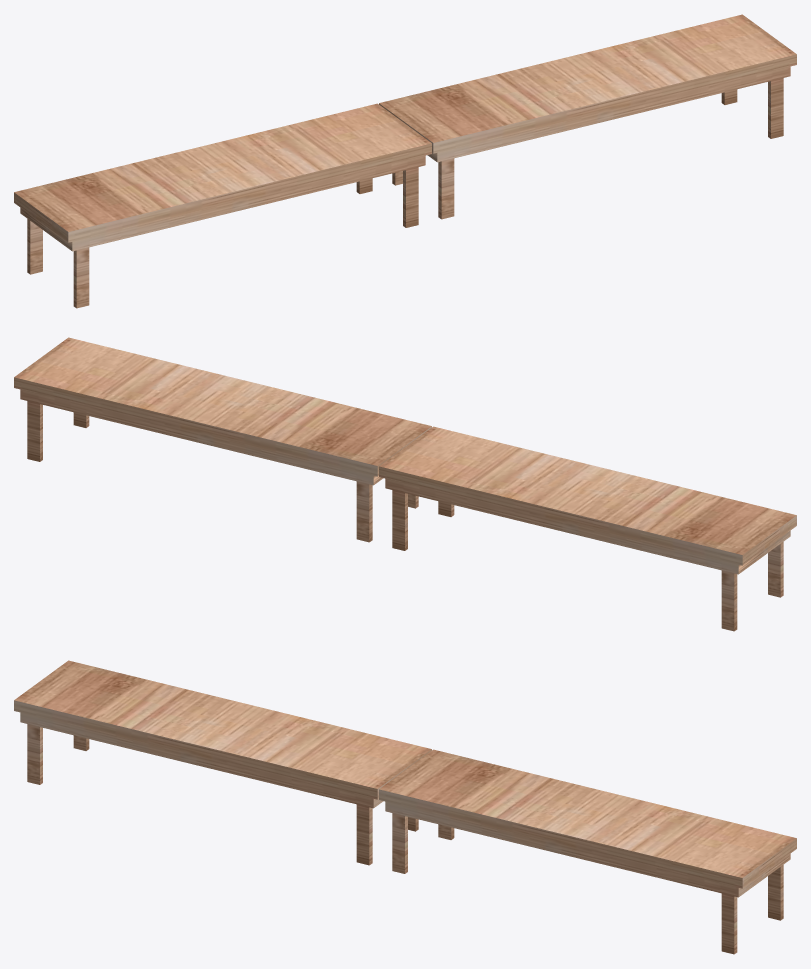
File: mesa.obj
3 renders of one model, top to bottom at view 1: azimuth 30°, elevation 25°; view 2: azimuth 150°, elevation 25°; view 3: azimuth 330°, elevation 25°, orthographic.
Visible parts, largest first — view 1: Mesa.003_Cube.085; view 2: Mesa.003_Cube.085; view 3: Mesa.003_Cube.085.
Part boxes in pixels (left/top/right/bottom): Mesa.003_Cube.085: left=14, top=14, right=796, bottom=308; Mesa.003_Cube.085: left=14, top=337, right=796, bottom=631; Mesa.003_Cube.085: left=14, top=660, right=796, bottom=954.
Bounding box in the file's own units: 119 × 12.68 × 15.46.
1 material, 1 textured.
